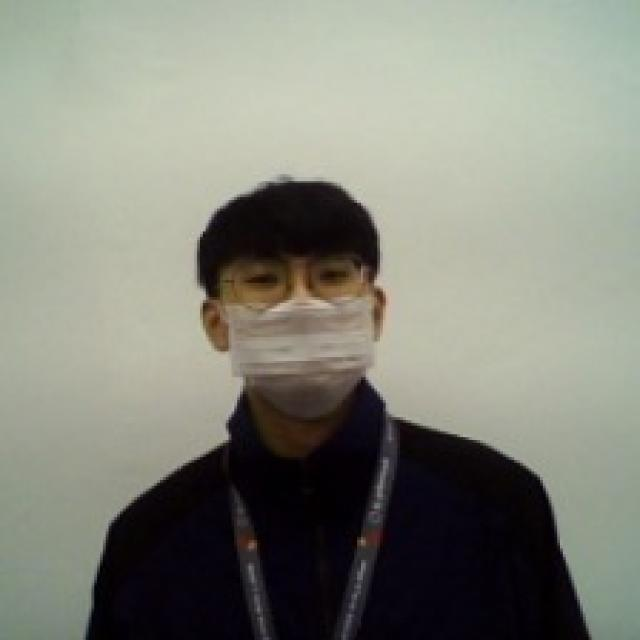mask: (204, 279, 394, 422)
no_gloves: (190, 173, 392, 296)
